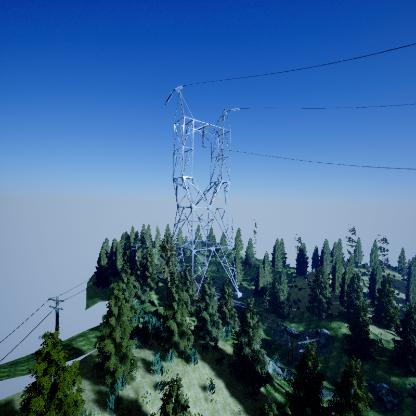tower: (159, 83, 251, 303)
